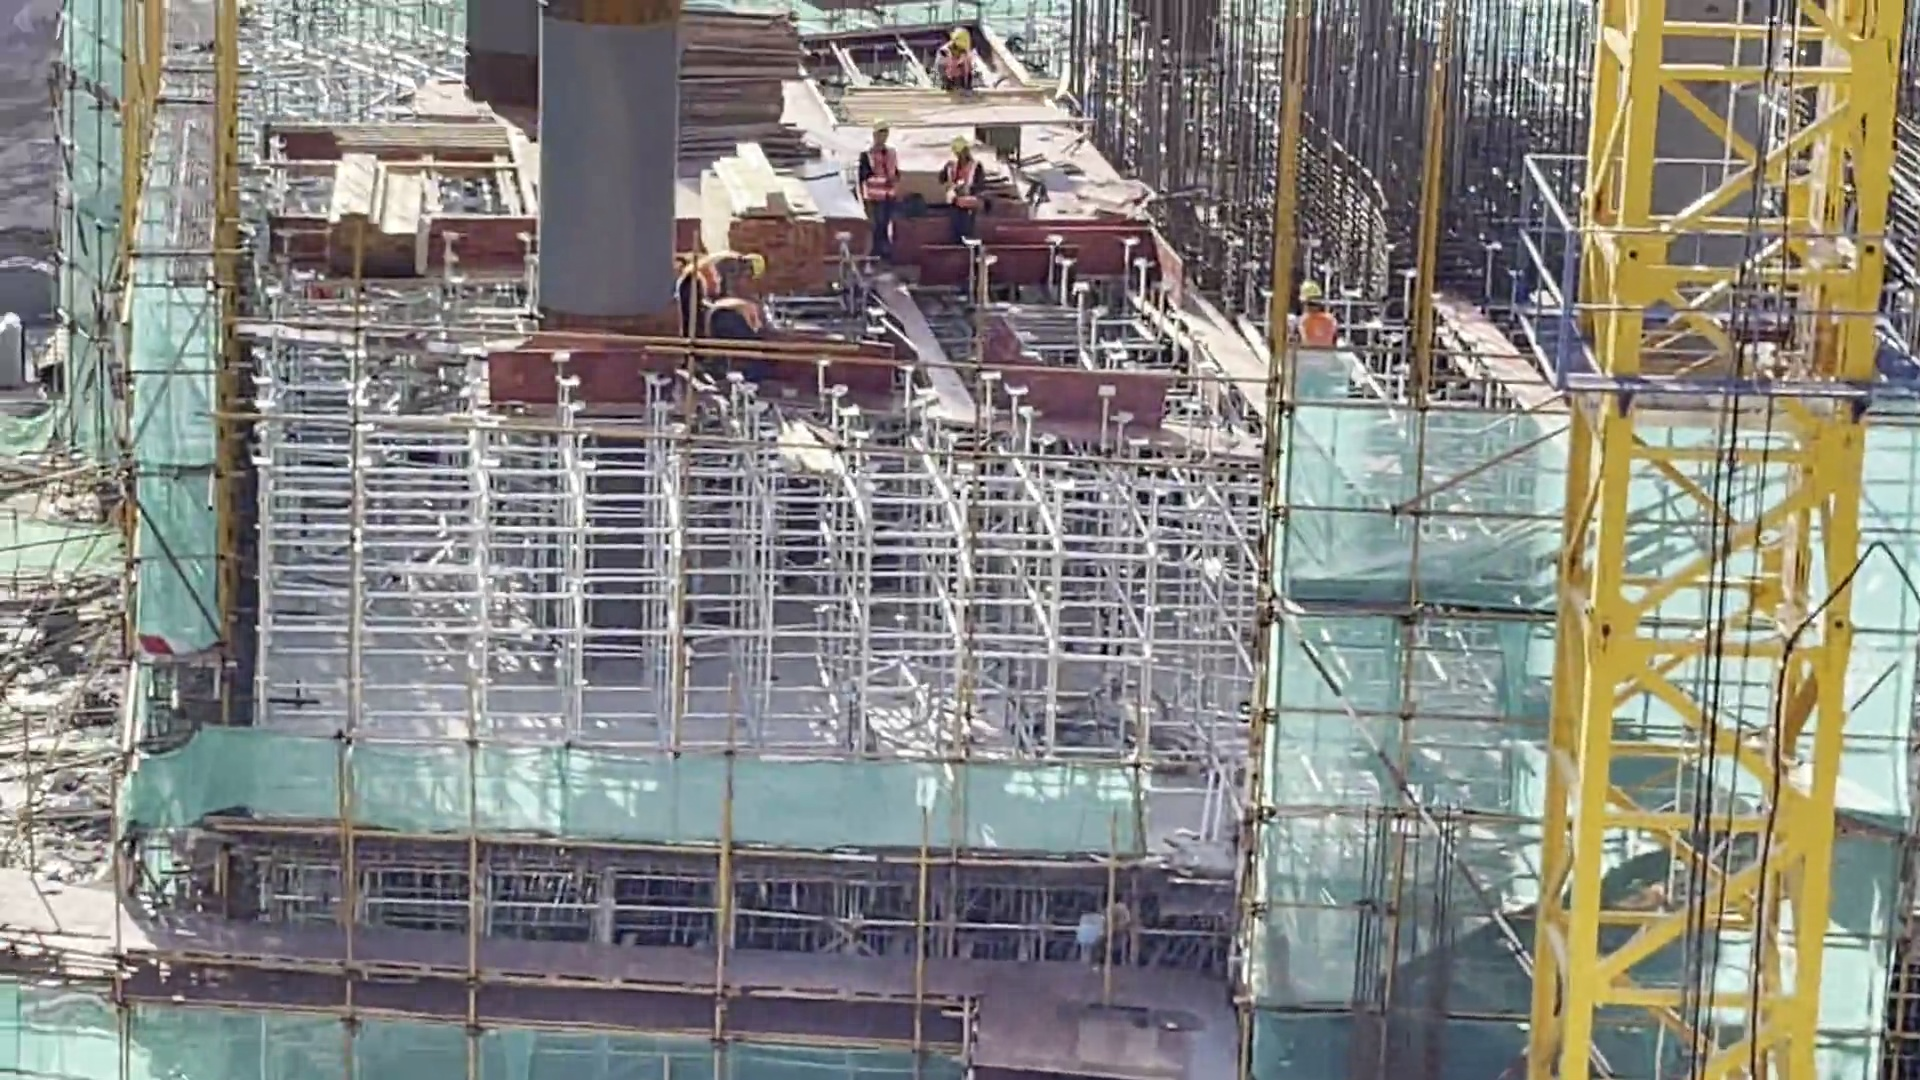helmet: (1297, 282, 1326, 304), (949, 25, 972, 51), (745, 252, 763, 277), (950, 134, 969, 152), (870, 124, 890, 133)
person: (682, 247, 767, 350), (855, 119, 901, 260), (942, 133, 988, 243), (1296, 279, 1344, 355), (706, 298, 764, 350), (933, 27, 974, 92)
vest: (686, 254, 742, 301), (860, 145, 897, 197), (949, 157, 981, 214), (1299, 309, 1336, 351), (938, 47, 970, 87)
